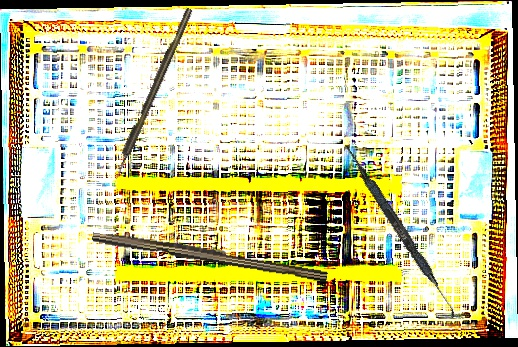Hook Surgical: (110, 7, 195, 180)
Scalpel Handle: (91, 227, 329, 283)
Spatula Surgical: (339, 143, 463, 319)
